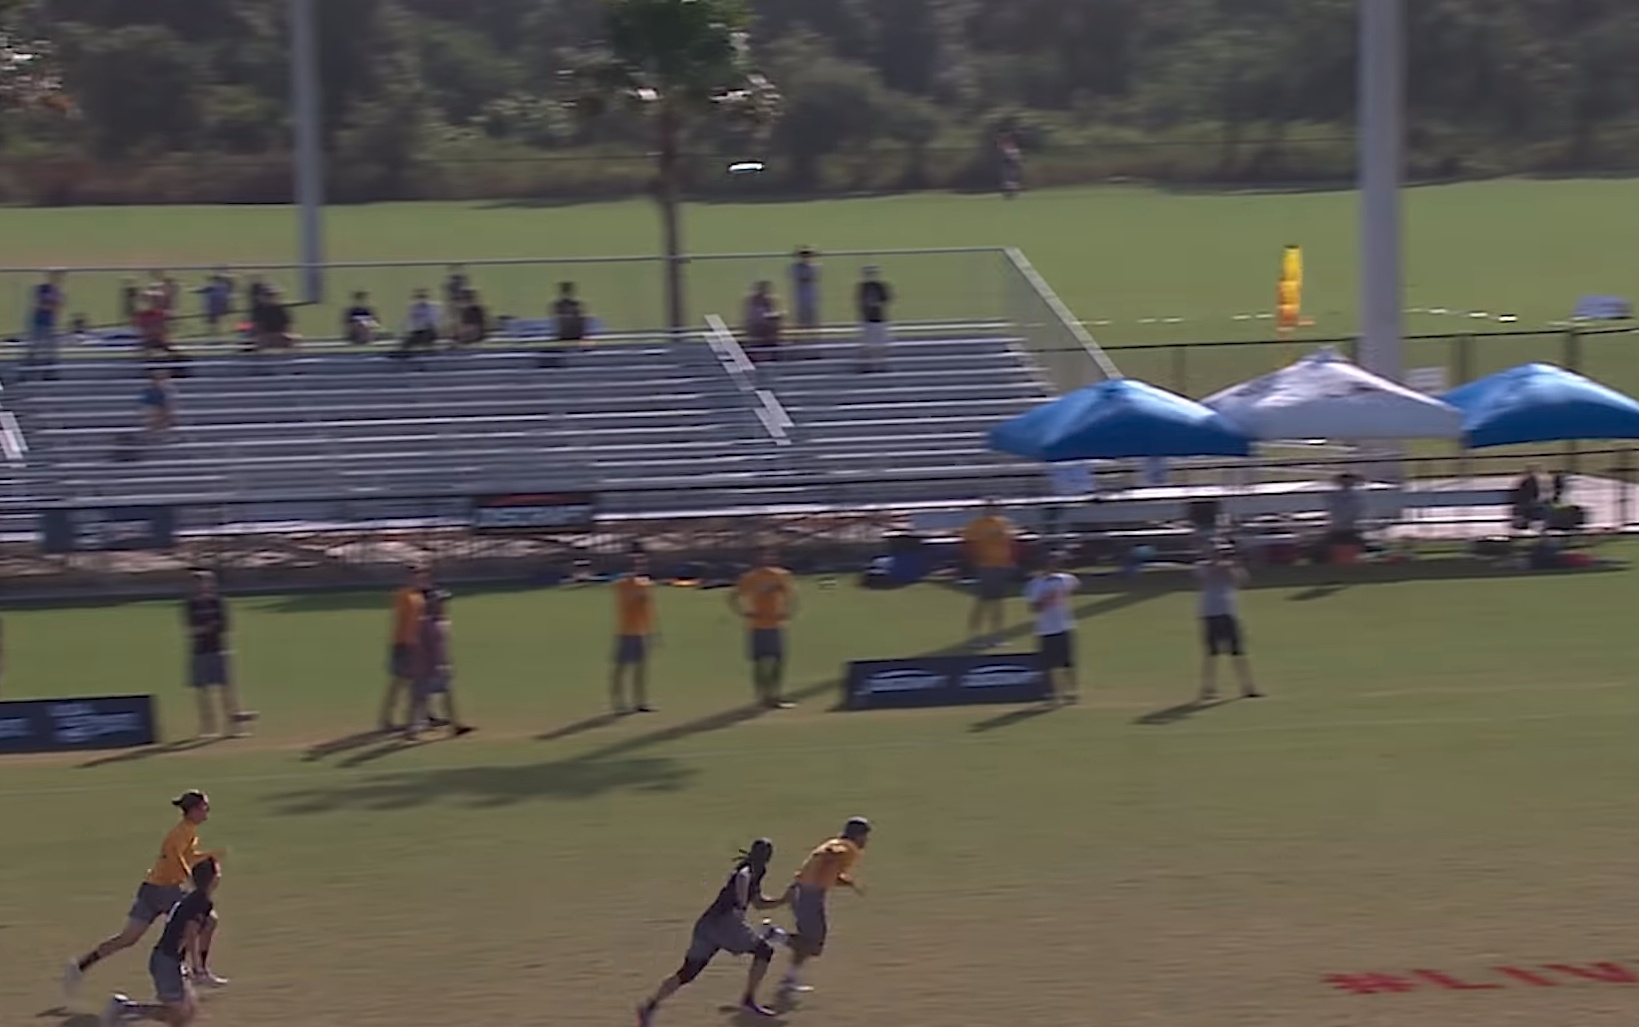frisbee: (728, 162, 763, 173)
